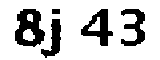3: (119, 7, 150, 49)
4: (79, 5, 114, 50)
8: (12, 4, 45, 47)
j: (44, 5, 67, 60)
